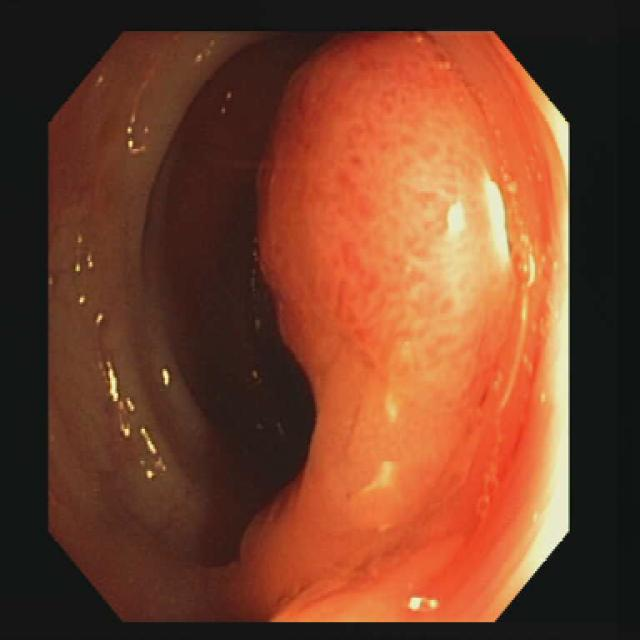tumor: (232, 34, 562, 621)
